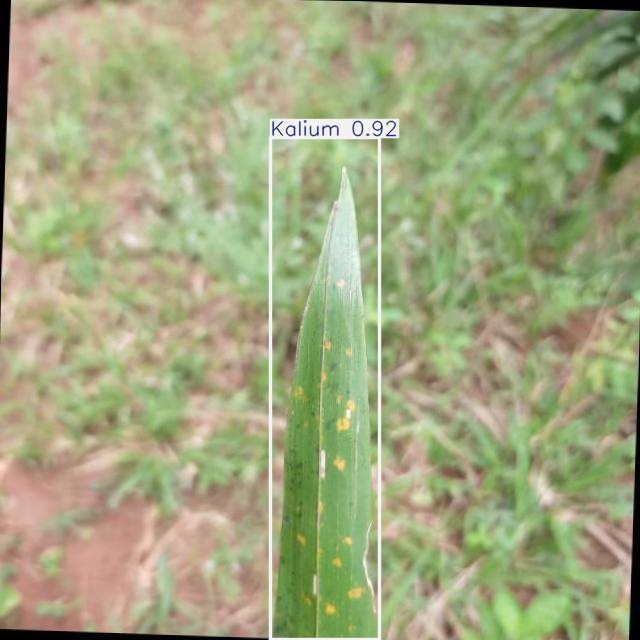Kalium: (270, 137, 379, 640)
